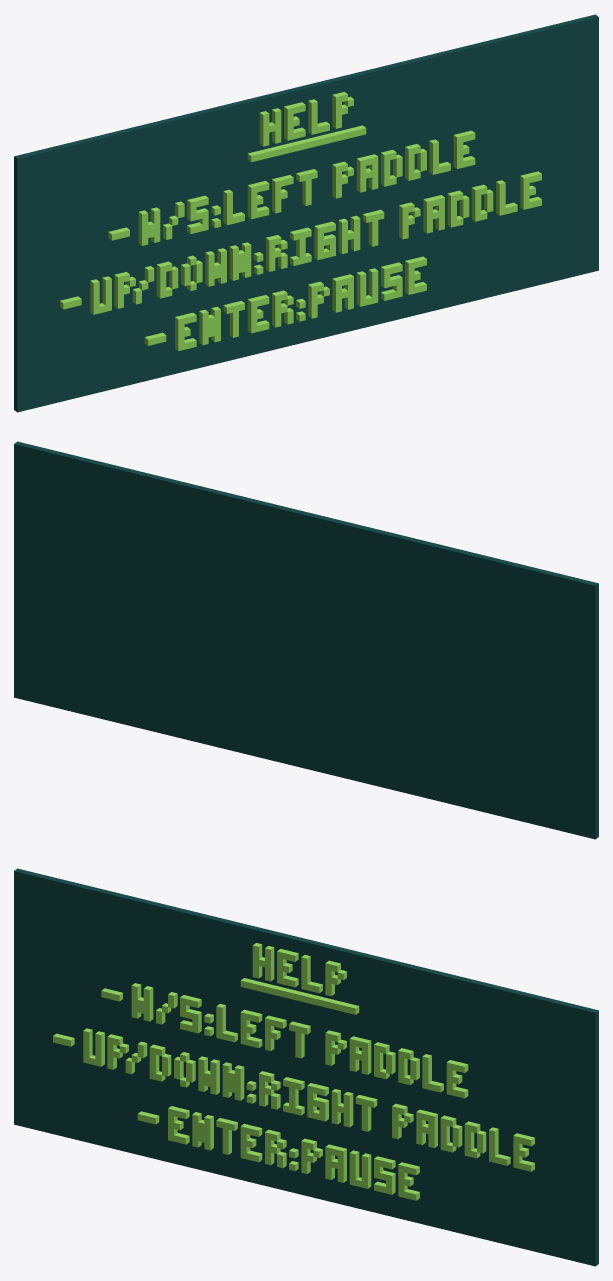
The model's file is HelpMenu.obj.
The picture shows the model from 3 angles, top to bottom: view 1: azimuth 30°, elevation 25°; view 2: azimuth 150°, elevation 25°; view 3: azimuth 330°, elevation 25°; orthographic projection.
Parts seen in each view (by area): view 1: HelpMenu; view 2: HelpMenu; view 3: HelpMenu.
Part boxes in pixels (x1,y1,x2,y2): HelpMenu: (14,14,598,412); HelpMenu: (14,441,598,839); HelpMenu: (14,868,598,1266).
Size of the model in its own units: 96 by 40 by 2.
1 material, 1 textured.
